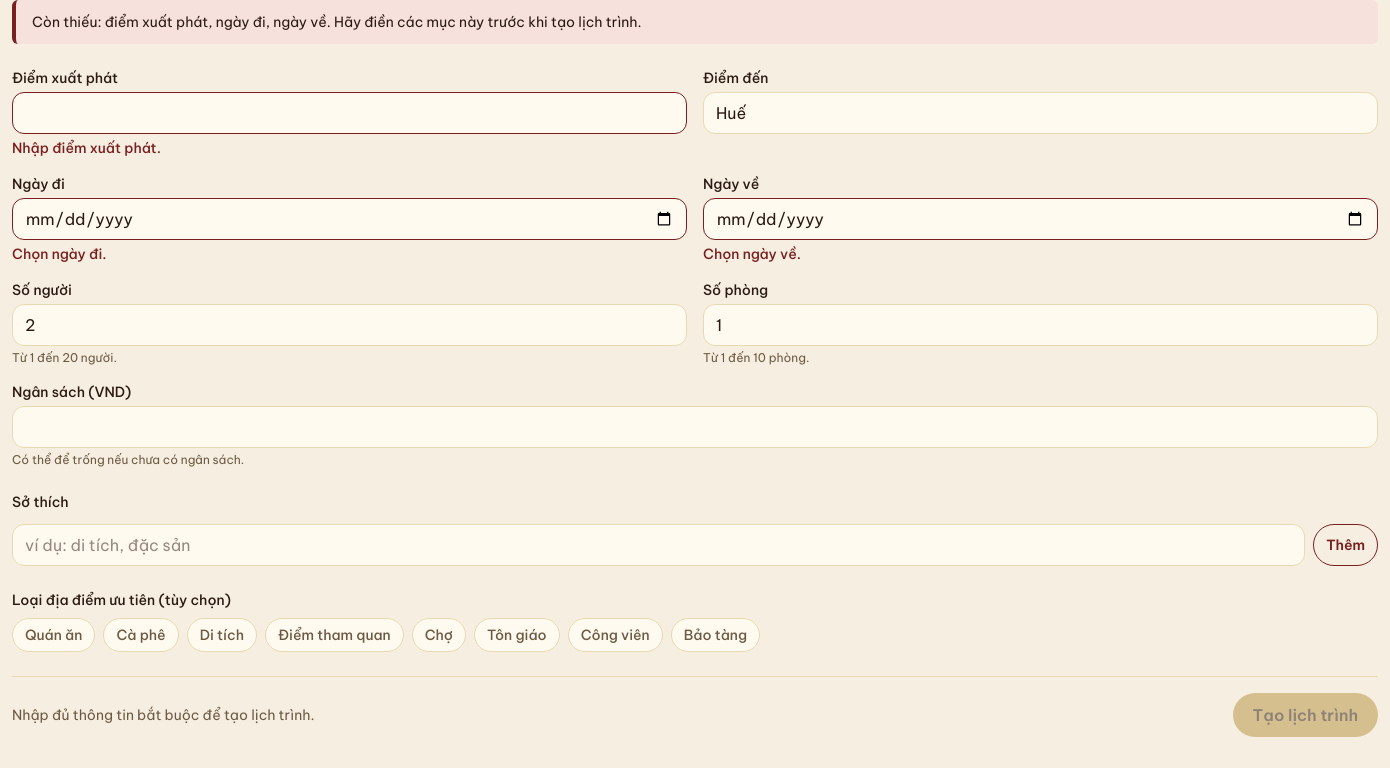
TripRequestForm › does not show a missing field's error as soon as the user fills it
In the field labelled "Điểm xuất phát": point(350, 113) [12,92,687,134], type "Hà Nội"
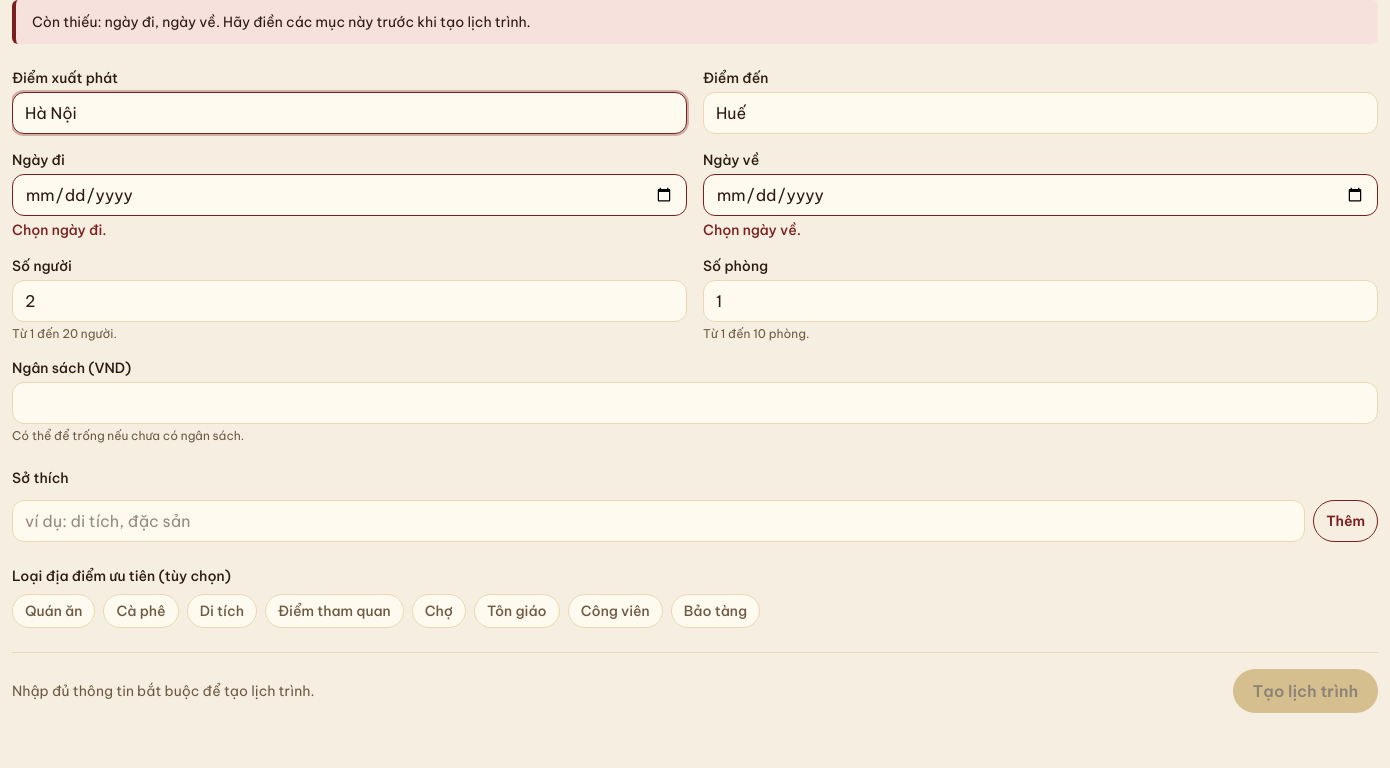
Check: the text "Nhập điểm xuất phát." is gone
